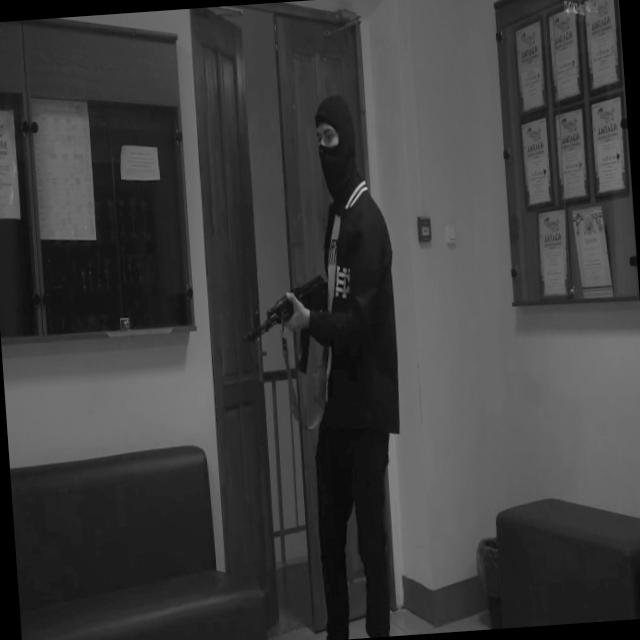gun: (241, 271, 342, 378)
person with a gun: (229, 91, 419, 640)
